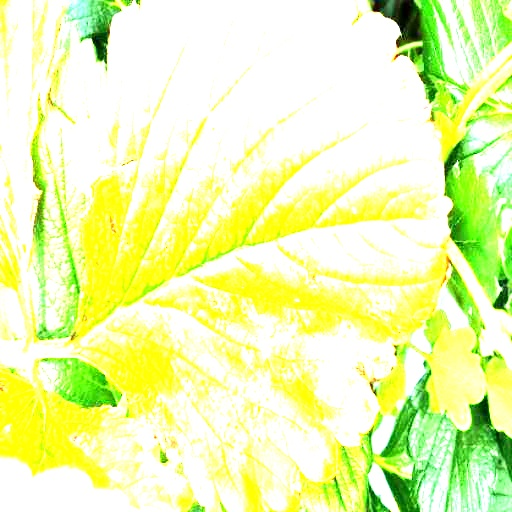Angular Leafspot: (61, 0, 455, 511), (0, 369, 196, 511)
